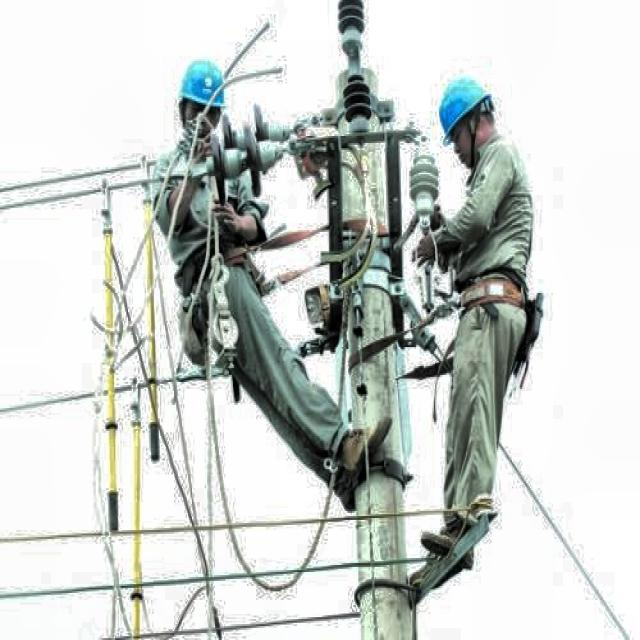helmet: (432, 65, 501, 169), (176, 51, 227, 155)
